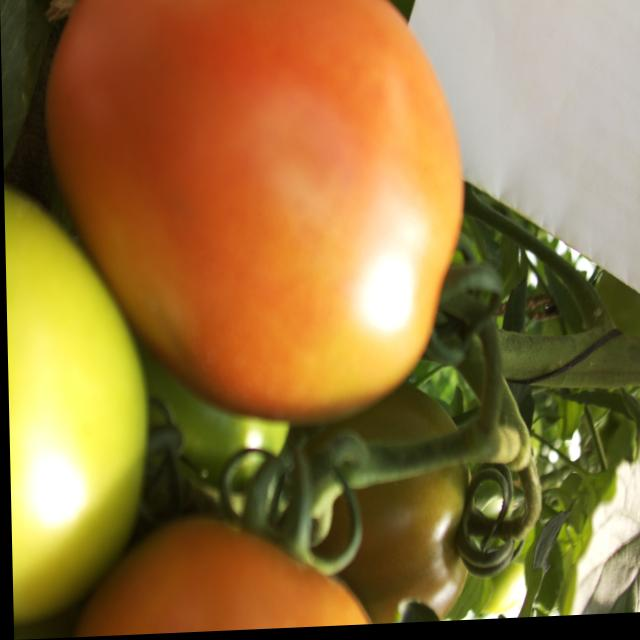kirmizi: (33, 0, 536, 410)
